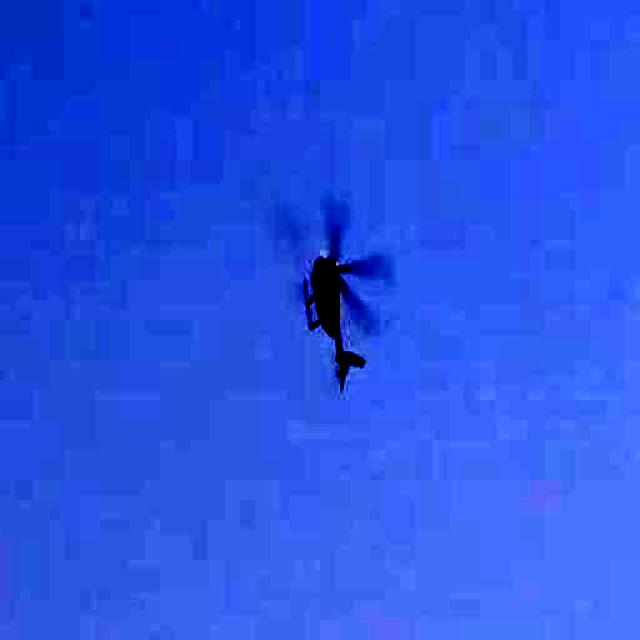drone: (234, 188, 412, 429)
